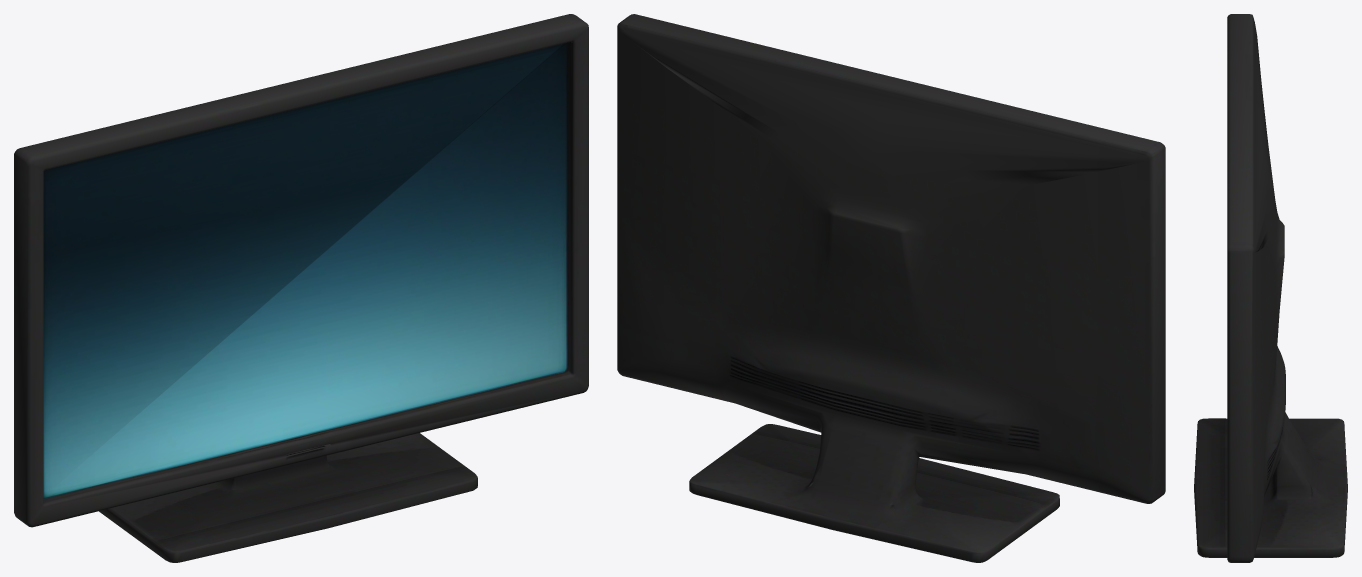
File: television_realistic_style_7ace8cb8_v4.glb
3 renders of one model, left to right at view 1: azimuth 30°, elevation 25°; view 2: azimuth 150°, elevation 25°; view 3: azimuth 270°, elevation 25°, orthographic. The views are drawn at different scales.
Visible parts, largest first — view 1: mesh_input; view 2: mesh_input; view 3: mesh_input.
Boxes of the visible parts, x1,y1,x2,y2 form: mesh_input: (14, 14, 588, 562); mesh_input: (617, 14, 1165, 562); mesh_input: (1194, 14, 1347, 562).
Bounding box in the file's own units: 1.9 × 1.37 × 0.5234.
1 material, 1 textured.
